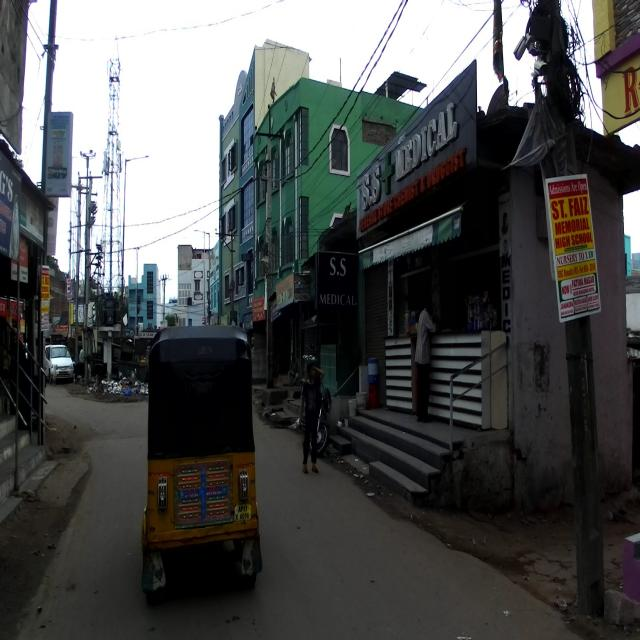autorickshaw: (140, 324, 263, 600)
motorcycle: (299, 378, 331, 462)
